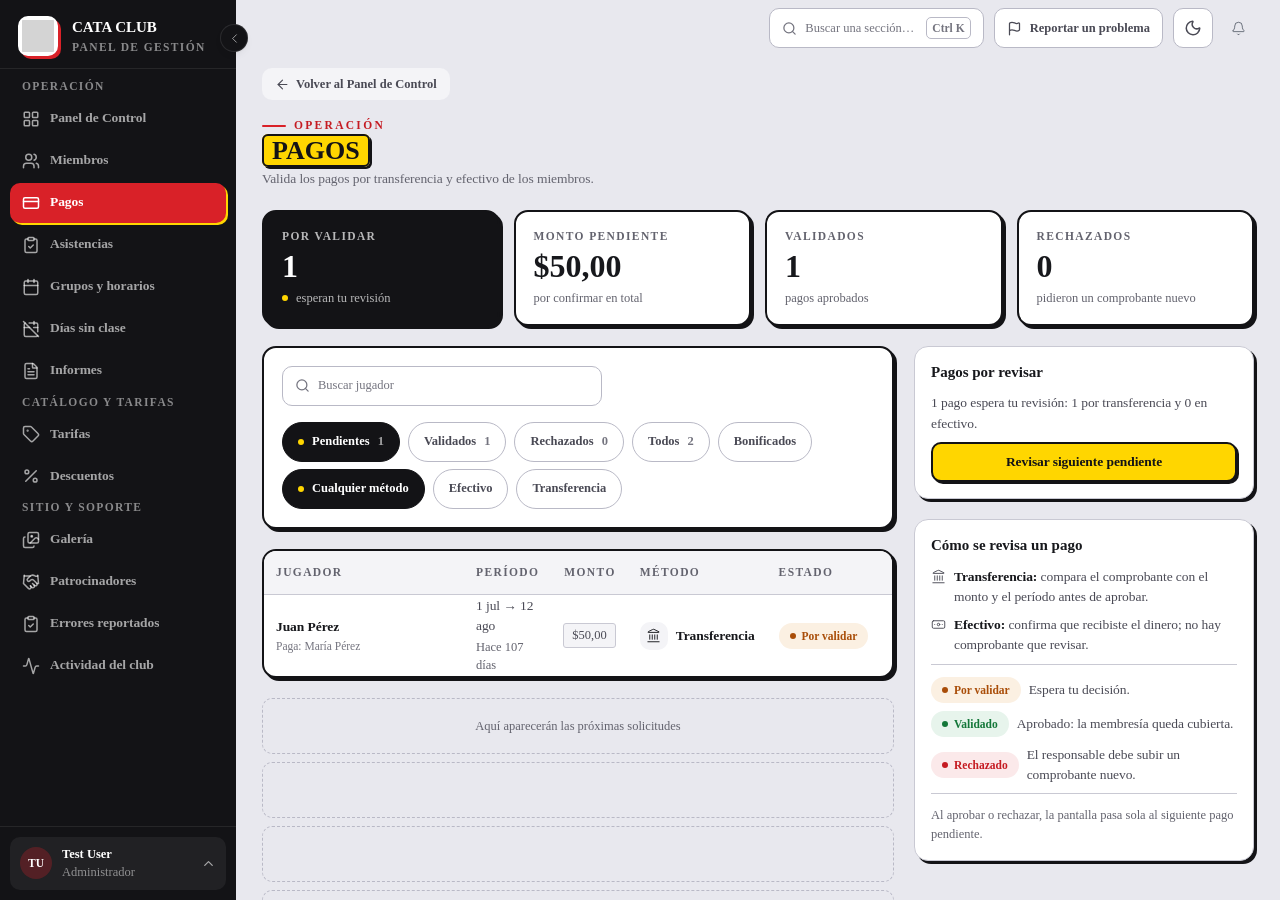
it: PaymentsPage — opens on the pending queue › shows only pending requests until the admin asks for the rest
The width and height of the screenshot is (1280, 900).
Expected: the element with test id "payments-table" is shown, [264,551,892,676]
Expected: the number of rows is 2, [264,551,892,595]; [264,595,892,676]
Click the button "Todos 2": point(671, 442) [632,422,710,462]
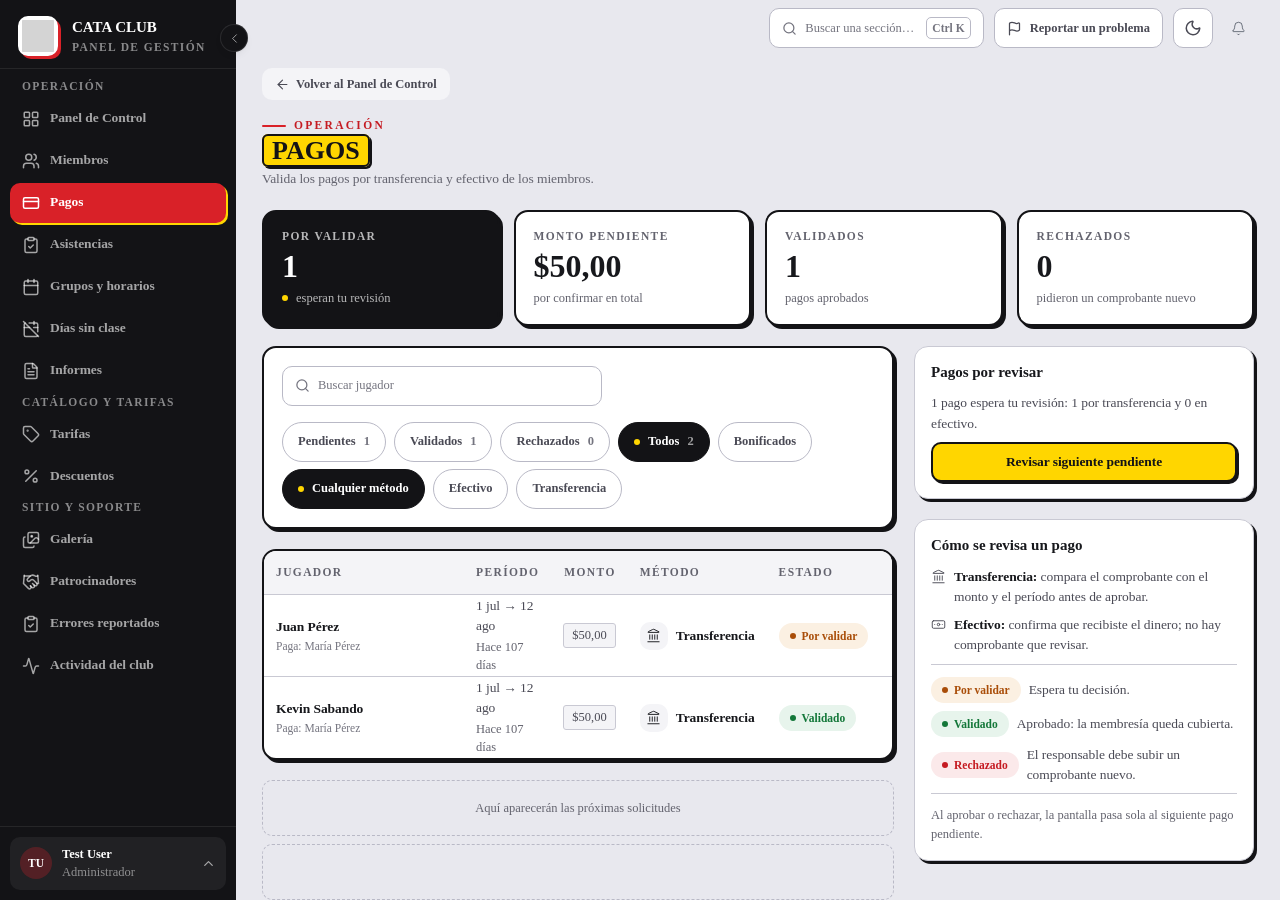
Expected: the text "Por validar" is shown, [779,623,868,649]
Expected: the text "Kevin Sabando" is shown, [276,701,363,716]
Expected: the text "Validado" is shown, [779,705,856,731]
